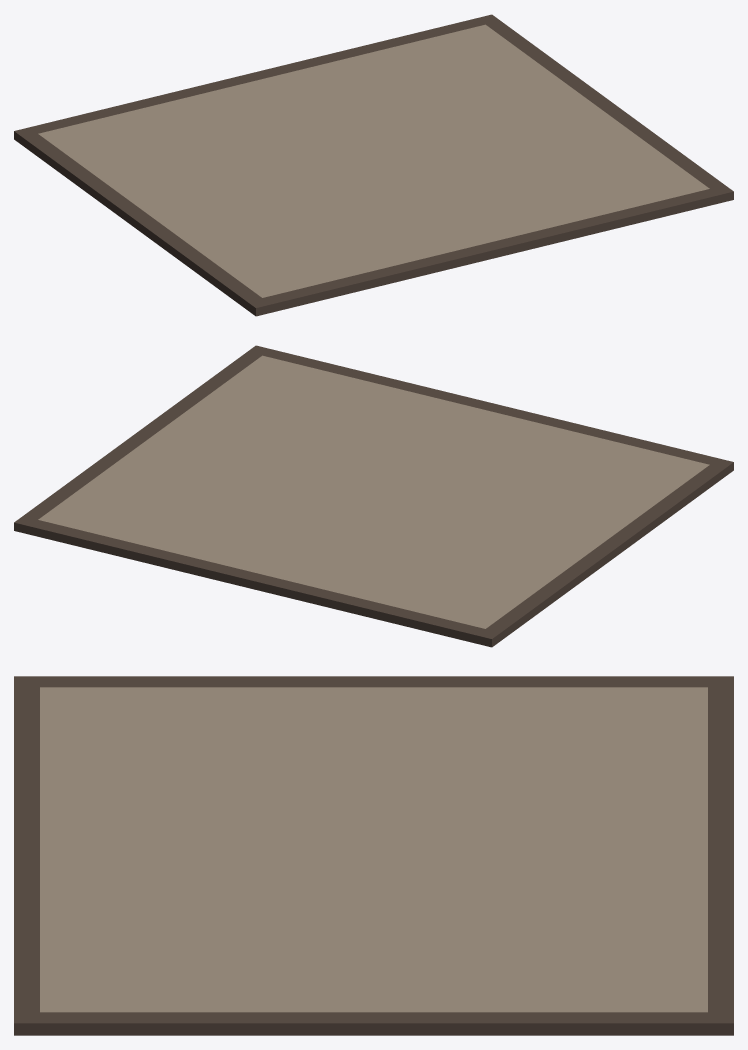
File: left_lift.glb
3 renders of one model, top to bottom at view 1: azimuth 30°, elevation 25°; view 2: azimuth 150°, elevation 25°; view 3: azimuth 270°, elevation 25°, orthographic. The views are drawn at different scales.
Visible parts, largest first — view 1: Left; view 2: Left; view 3: Left.
Boxes of the visible parts, x1,y1,x2,y2 form: Left: (14, 14, 733, 316); Left: (14, 345, 733, 647); Left: (14, 676, 733, 1035).
Size of what is drawn, in the model's own units: 3.25 by 0.0541 by 2.85.
Materials: 1 (1 with a texture image).
